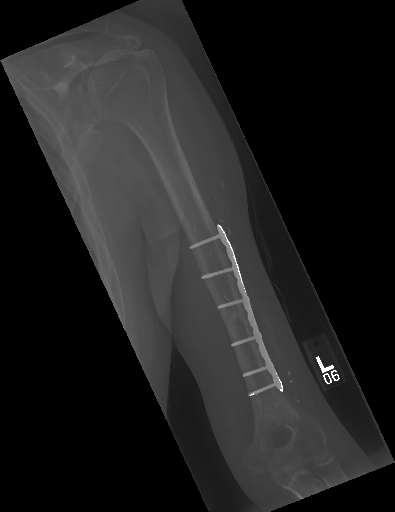implant: (189, 222, 283, 397)
